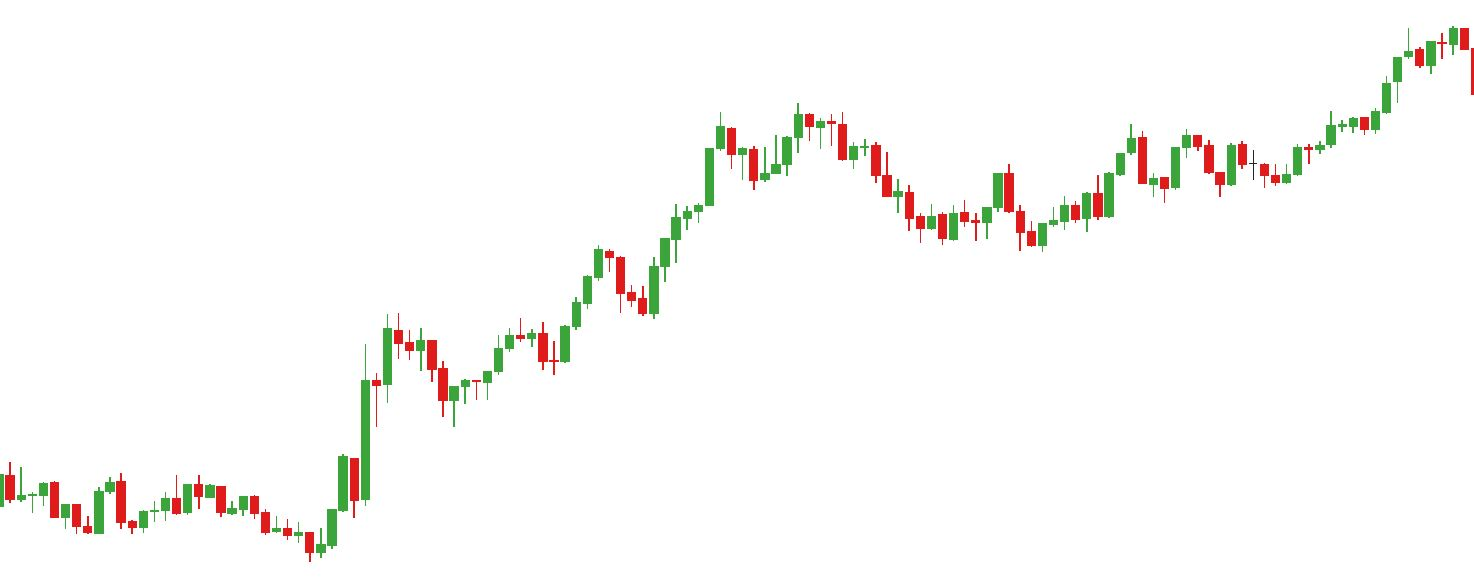buy: (936, 191, 1050, 255)
sell: (714, 96, 816, 167)
